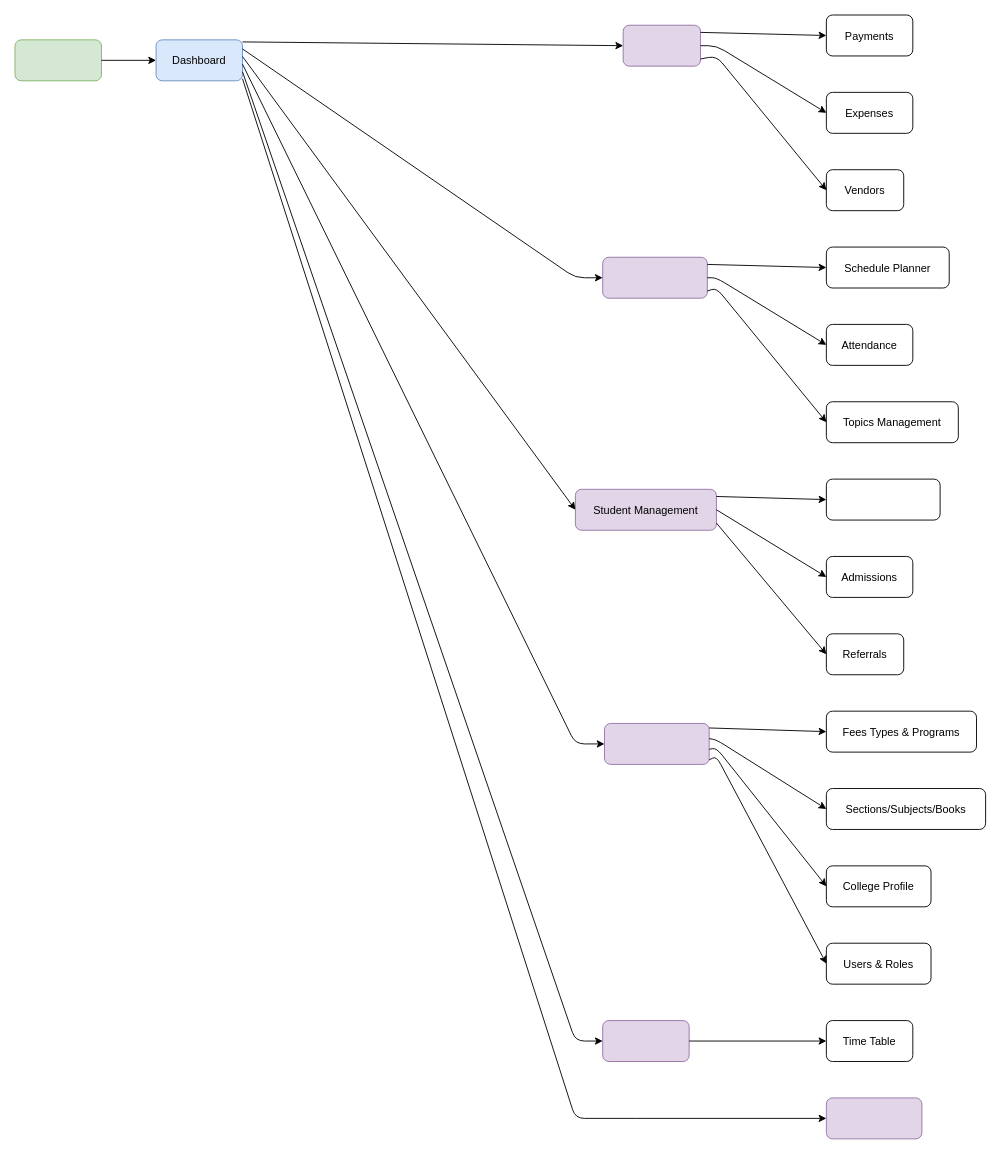
This 1001x1154 diagram has some shape labels left out. Each missing label, with the centre of its shape:
"Academics" goes at pixel 645 1041.
"Accounts" goes at pixel 661 45.
"Administration" goes at pixel 656 743.
"Collect Payment" goes at pixel 882 499.
"Faculty Corner" goes at pixel 654 277.
"Master Navs" goes at pixel 873 1118.
"User Login" goes at pixel 57 60.
